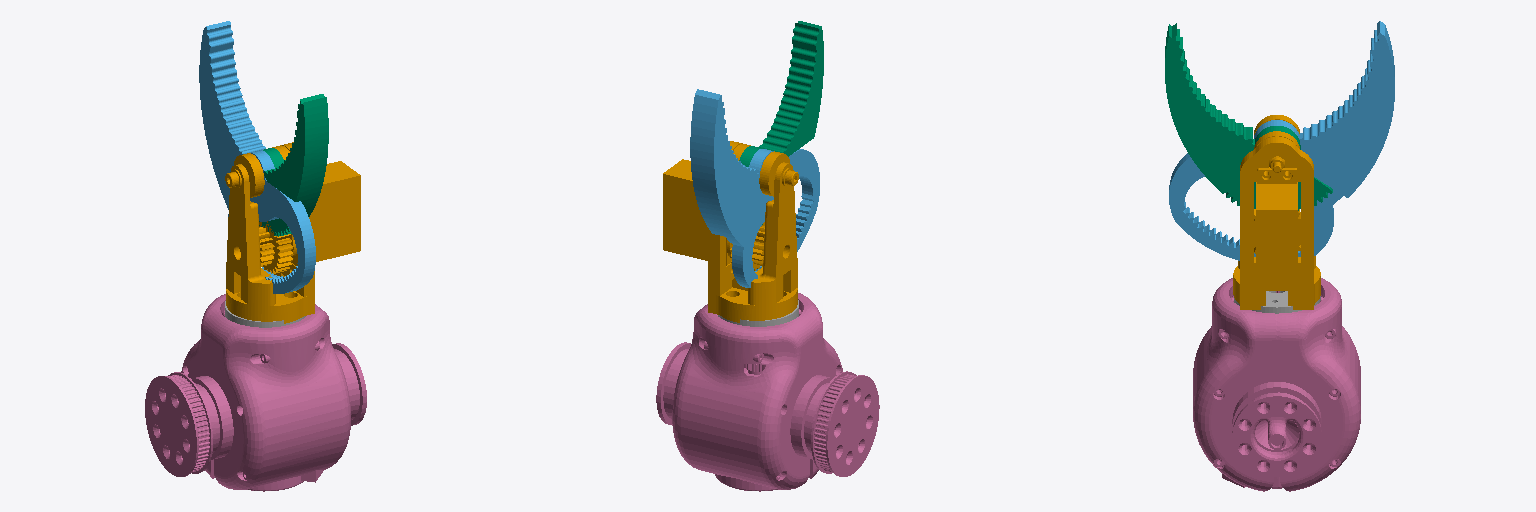
URDF robot description (mantis):
<?xml version="1.0"?>
<robot  name="mantis" >
 <link  name="world" />
 <joint  name="world_mantis_joint"  type="fixed" >
  <origin  rpy="0 0 0"  xyz="0 0 0" />
  <parent  link="world" />
  <child  link="mantis_link_0" />
 </joint>
 <link  name="mantis_link_0" >
  <inertial >
   <origin  rpy="0 0 0"  xyz="0.0 0.0 0.0" />
   <mass  value="5" />
   <inertia  iyz="0"  ixy="0"  izz="0"  ixz="0.0"  iyy="0"  ixx="0" />
  </inertial>
  <visual >
   <origin  xyz="0 0 0" />
   <geometry >
    <mesh  filename="package://mantisrobot/visual/link_0.stl" />
   </geometry>
   <material  name="Grey" />
  </visual>
  <collision >
   <origin  xyz="0 0 0" />
   <geometry >
    <mesh  filename="package://mantisrobot/visual/link_0.stl" />
   </geometry>
   <material  name="Grey" />
  </collision>
 </link>
 <joint  name="mantis_joint_1"  type="revolute" >
  <parent  link="mantis_link_0" />
  <child  link="mantis_link_1" />
  <origin  rpy="0 0 0"  xyz="0.0 0.0 0.0" />
  <axis  xyz="0 0 1" />
  <limit  upper="3.141592653589793"  velocity="10"  lower="-3.141592653589793"  effort="300" />
  <safety_controller  soft_lower_limit="-2.9670597283903604"  soft_upper_limit="2.9670597283903604"  k_velocity="2"  k_position="100" />
  <dynamics  damping="0.5" />
 </joint>
 <link  name="mantis_link_1" >
  <inertial >
   <origin  rpy="0 0 0"  xyz="0.0 0.0 0.0" />
   <mass  value="4" />
   <inertia  iyz="0"  ixy="1"  izz="0.02"  ixz="0"  iyy="0.0"  ixx="0" />
  </inertial>
  <visual >
   <origin  xyz="0 0 0.0" />
   <geometry >
    <mesh  filename="package://mantisrobot/visual/link_1.stl" />
   </geometry>
   <material  name="Orange" />
  </visual>
  <collision >
   <origin  xyz="0 0 0.0" />
   <geometry >
    <mesh  filename="package://mantisrobot/visual/link_1.stl" />
   </geometry>
   <material  name="Orange" />
  </collision>
 </link>
 <joint  name="mantis_joint_2"  type="revolute" >
  <parent  link="mantis_link_1" />
  <child  link="mantis_link_2" />
  <origin  rpy="0 0 0"  xyz="0.0 0.0 0.297" />
  <axis  xyz="1 0 0" />
  <limit  upper="2.0943951023931953"  velocity="10"  lower="-2.0943951023931953"  effort="300" />
  <safety_controller  soft_lower_limit="-1.7453292519943295"  soft_upper_limit="1.7453292519943295"  k_velocity="2"  k_position="100" />
  <dynamics  damping="0.5" />
 </joint>
 <link  name="mantis_link_2" >
  <inertial >
   <origin  rpy="0 0 0"  xyz="0 0.0 0.0" />
   <mass  value="4" />
   <inertia  iyz="0"  ixy="0"  izz="0.0"  ixz="0.0"  iyy="0.0"  ixx="0.0" />
  </inertial>
  <visual >
   <origin  xyz="0 0 0" />
   <geometry >
    <mesh  filename="package://mantisrobot/visual/link_2.stl" />
   </geometry>
   <material  name="Orange" />
  </visual>
  <collision >
   <origin  xyz="0 0 0" />
   <geometry >
    <mesh  filename="package://mantisrobot/visual/link_2.stl" />
   </geometry>
   <material  name="Orange" />
  </collision>
 </link>
 <joint  name="mantis_joint_3"  type="revolute" >
  <parent  link="mantis_link_2" />
  <child  link="mantis_link_3" />
  <origin  rpy="0 0 0"  xyz="0.0 0.0 0.225" />
  <axis  xyz="1 0 0" />
  <limit  upper="2.2689280275926285"  velocity="10"  lower="-2.2689280275926285"  effort="300" />
  <safety_controller  soft_lower_limit="-2.0943951023931953"  soft_upper_limit="2.0943951023931953"  k_velocity="2"  k_position="100" />
  <dynamics  damping="0.5" />
 </joint>
 <link  name="mantis_link_3" >
  <inertial >
   <origin  rpy="0 0 0"  xyz="0.0 0.0 0.0" />
   <mass  value="3" />
   <inertia  iyz="0"  ixy="0"  izz="0.0"  ixz="0"  iyy="0.0"  ixx="0.0" />
  </inertial>
  <visual >
   <origin  xyz="0 0.0 0" />
   <geometry >
    <mesh  filename="package://mantisrobot/visual/link_3.stl" />
   </geometry>
   <material  name="Orange" />
  </visual>
  <collision >
   <origin  xyz="0 0.0 0" />
   <geometry >
    <mesh  filename="package://mantisrobot/visual/link_3.stl" />
   </geometry>
   <material  name="Orange" />
  </collision>
 </link>
 <joint  name="mantis_joint_4"  type="revolute" >
  <parent  link="mantis_link_3" />
  <child  link="mantis_link_4" />
  <origin  rpy="0 0 0"  xyz="0.0 0.0 0.0" />
  <axis  xyz="0 0 1" />
  <limit  upper="12.566370614359172"  velocity="10"  lower="-12.566370614359172"  effort="300" />
  <safety_controller  soft_lower_limit="-12.566370614359172"  soft_upper_limit="12.566370614359172"  k_velocity="2"  k_position="100" />
  <dynamics  damping="0.5" />
 </joint>
 <link  name="mantis_link_4" >
  <inertial >
   <origin  rpy="0 0 0"  xyz="0.0 0.0 0.0" />
   <mass  value="2.7" />
   <inertia  iyz="0"  ixy="0"  izz="0.0"  ixz="0"  iyy="0.0"  ixx="0.03" />
  </inertial>
  <visual >
   <origin  xyz="0 0 0" />
   <geometry >
    <mesh  filename="package://mantisrobot/visual/link_4.stl" />
   </geometry>
   <material  name="Orange" />
  </visual>
  <collision >
   <origin  xyz="0 0 0" />
   <geometry >
    <mesh  filename="package://mantisrobot/visual/link_4.stl" />
   </geometry>
   <material  name="Orange" />
  </collision>
 </link>
 <joint  name="mantis_joint_5"  type="revolute" >
  <parent  link="mantis_link_4" />
  <child  link="mantis_link_5" />
  <origin  rpy="0 0 0"  xyz="0.0 0.0 0.228855" />
  <axis  xyz="1 0 0" />
  <limit  upper="2.2689280275926285"  velocity="10"  lower="-2.2689280275926285"  effort="300" />
  <safety_controller  soft_lower_limit="-2.0943951023931953"  soft_upper_limit="2.0943951023931953"  k_velocity="2"  k_position="100" />
  <dynamics  damping="0.5" />
 </joint>
 <link  name="mantis_link_5" >
  <inertial >
   <origin  rpy="0 0 0"  xyz="0.0 0.0 0.0" />
   <mass  value="1.7" />
   <inertia  iyz="0"  ixy="0"  izz="0.0"  ixz="0"  iyy="0.0"  ixx="0.0" />
  </inertial>
  <visual >
   <origin  xyz="0 0 0" />
   <geometry >
    <mesh  filename="package://mantisrobot/visual/link_5.stl" />
   </geometry>
   <material  name="Orange" />
  </visual>
  <collision >
   <origin  xyz="0 0 0" />
   <geometry >
    <mesh  filename="package://mantisrobot/visual/link_5.stl" />
   </geometry>
   <material  name="Orange" />
  </collision>
 </link>
 <joint  name="mantis_joint_6"  type="revolute" >
  <parent  link="mantis_link_5" />
  <child  link="mantis_link_6" />
  <origin  rpy="0 0 0"  xyz="0.0 0.0 0.047" />
  <axis  xyz="0 0 1" />
  <limit  upper="12.566370614359172"  velocity="10"  lower="-12.566370614359172"  effort="300" />
  <safety_controller  soft_lower_limit="-12.566370614359172"  soft_upper_limit="12.566370614359172"  k_velocity="2"  k_position="100" />
  <dynamics  damping="0.5" />
 </joint>
 <link  name="mantis_link_6" >
  <inertial >
   <origin  rpy="0 0 0"  xyz="0.0 0.0 0.0" />
   <mass  value="1.8" />
   <inertia  iyz="0"  ixy="0"  izz="0.0"  ixz="0"  iyy="0.0"  ixx="0.0" />
  </inertial>
  <visual >
   <origin  xyz="0 0 0" />
   <geometry >
    <mesh  filename="package://mantisrobot/visual/link_6.stl" />
   </geometry>
   <material  name="Orange" />
  </visual>
  <collision >
   <origin  xyz="0 0 0" />
   <geometry >
    <mesh  filename="package://mantisrobot/visual/link_6.stl" />
   </geometry>
   <material  name="Orange" />
  </collision>
 </link>
 <joint  name="tool0_joint"  type="fixed" >
  <parent  link="mantis_link_6" />
  <child  link="mantis_link_ee" />
  <origin  rpy="0 0 0"  xyz="0 0 0.003" />
 </joint>
 <link  name="mantis_link_ee" >
  <inertial >
   <origin  rpy="0 0 0"  xyz="0 0 0.0" />
   <mass  value="1" />
   <inertia  iyz="0"  ixy="0"  izz="0.0"  ixz="0.0"  iyy="0.0"  ixx="0.0" />
  </inertial>
  <visual >
   <origin  xyz="0 0 0" />
   <geometry >
    <mesh  filename="package://mantisrobot/visual/glink_0.stl" />
   </geometry>
   <material  name="orange" />
  </visual>
  <collision >
   <origin  xyz="0 0 0" />
   <geometry >
    <mesh  filename="package://mantisrobot/visual/glink_0.stl" />
   </geometry>
   <material  name="orange" />
  </collision>
 </link>
 <joint  name="mantis_link_eel"  type="revolute" >
  <parent  link="mantis_link_ee" />
  <child  link="mantis_link_eel" />
  <origin  rpy="0 0 0"  xyz="-0.005 0 0.072" />
  <axis  xyz="1 0 0" />
  <limit  upper="0.5235987755982988"  velocity="10"  lower="-0.5235987755982988"  effort="300" />
  <safety_controller  soft_lower_limit="-0.5235987755982988"  soft_upper_limit="0.5235987755982988"  k_velocity="2"  k_position="100" />
  <dynamics  damping="0.5" />
 </joint>
 <link  name="mantis_link_eel" >
  <inertial >
   <origin  rpy="0 0 0"  xyz="0 0 0.0" />
   <mass  value="1" />
   <inertia  iyz="0"  ixy="0"  izz="0.0"  ixz="0.0"  iyy="0.0"  ixx="0.0" />
  </inertial>
  <visual >
   <origin  xyz="0 0 0" />
   <geometry >
    <mesh  filename="package://mantisrobot/visual/glink_l.stl" />
   </geometry>
   <material  name="orange" />
  </visual>
  <collision >
   <origin  xyz="0 0 0" />
   <geometry >
    <mesh  filename="package://mantisrobot/visual/glink_l.stl" />
   </geometry>
   <material  name="orange" />
  </collision>
 </link>
 <joint  name="mantis_link_eer"  type="revolute" >
  <parent  link="mantis_link_ee" />
  <child  link="mantis_link_eer" />
  <origin  rpy="0 0 0"  xyz="0.0 0 0.072" />
  <axis  xyz="1 0 0" />
  <limit  upper="0.5235987755982988"  velocity="10"  lower="-0.5235987755982988"  effort="300" />
  <safety_controller  soft_lower_limit="-0.5235987755982988"  soft_upper_limit="0.5235987755982988"  k_velocity="2"  k_position="100" />
  <dynamics  damping="0.5" />
 </joint>
 <link  name="mantis_link_eer" >
  <inertial >
   <origin  rpy="0 0 0"  xyz="0 0 0.0" />
   <mass  value="1" />
   <inertia  iyz="0"  ixy="0"  izz="0.0"  ixz="0.0"  iyy="0.0"  ixx="0.0" />
  </inertial>
  <visual >
   <origin  xyz="0 0 0" />
   <geometry >
    <mesh  filename="package://mantisrobot/visual/glink_r.stl" />
   </geometry>
   <material  name="orange" />
  </visual>
  <collision >
   <origin  xyz="0 0 0" />
   <geometry >
    <mesh  filename="package://mantisrobot/visual/glink_r.stl" />
   </geometry>
   <material  name="orange" />
  </collision>
 </link>
</robot>

--- What the picture shows (computed from the rendered views, not written in the file) ---
Views: 3 orthographic renders of the robot side by side, from view 1: azimuth 30°, elevation 25°; view 2: azimuth 150°, elevation 25°; view 3: azimuth 270°, elevation 25°.
Robot: mantis — 11 links, 10 joints (8 revolute, 2 fixed); root link world; default pose: all joints at 0.
Links seen in each view (by area): view 1: mantis_link_5, mantis_link_ee, mantis_link_eel, mantis_link_eer; view 2: mantis_link_5, mantis_link_ee, mantis_link_eel, mantis_link_eer; view 3: mantis_link_5, mantis_link_ee, mantis_link_eel, mantis_link_eer, mantis_link_6.
Link boxes in pixels (<box>): mantis_link_5: <box>145,294,366,491</box>; mantis_link_ee: <box>225,142,360,323</box>; mantis_link_eel: <box>199,21,315,293</box>; mantis_link_eer: <box>259,94,328,236</box>; mantis_link_5: <box>656,293,879,491</box>; mantis_link_ee: <box>663,141,798,322</box>; mantis_link_eel: <box>690,89,819,287</box>; mantis_link_eer: <box>739,21,823,224</box>; mantis_link_5: <box>1193,278,1360,491</box>; mantis_link_ee: <box>1233,115,1320,309</box>; mantis_link_eel: <box>1169,21,1394,260</box>; mantis_link_eer: <box>1165,23,1332,210</box>; mantis_link_6: <box>1234,291,1320,313</box>.
Size in the robot's own frame: 0.1019 by 0.1026 by 0.2181 metres.
5 mesh visuals loaded from 10 distinct referenced files (5 binary STL); not drawn: 5 (reference not matched to a file when rendering).